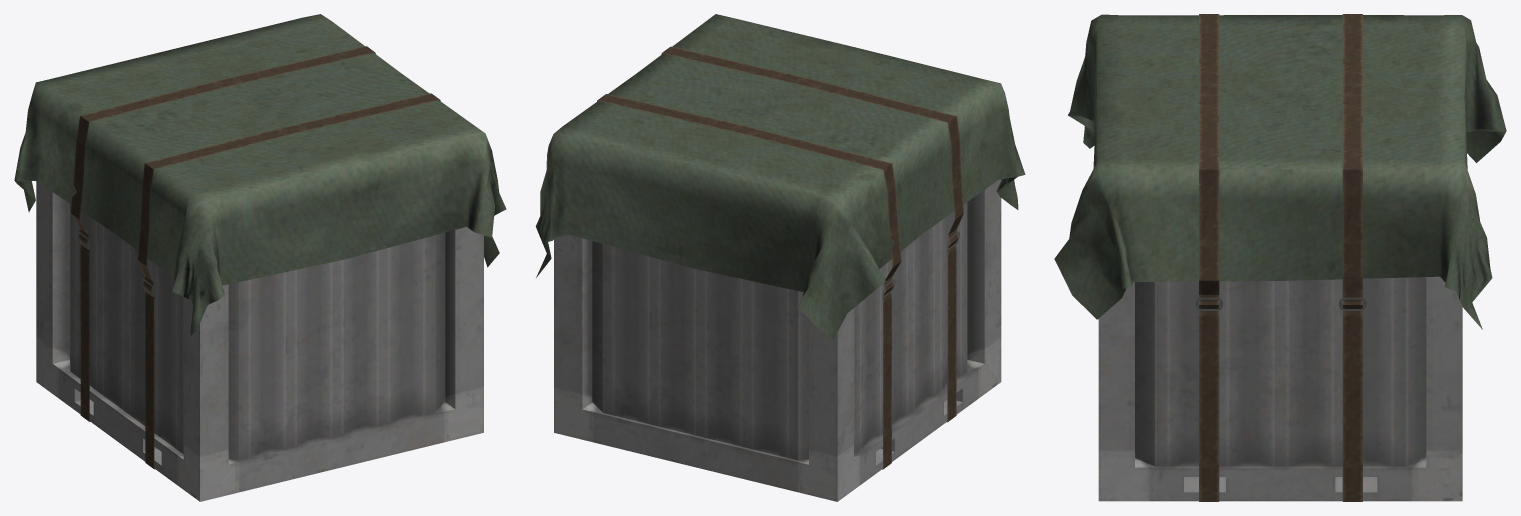
File: Forest_SteelBox01.fbx
The picture shows the model from 3 angles, left to right: view 1: azimuth 30°, elevation 25°; view 2: azimuth 150°, elevation 25°; view 3: azimuth 270°, elevation 25°; orthographic projection. The views are drawn at different scales.
Visible parts, largest first — view 1: ItemBox_SteelBox_02_0_7; view 2: ItemBox_SteelBox_02_0_7; view 3: ItemBox_SteelBox_02_0_7.
Part boxes in pixels (<box>): ItemBox_SteelBox_02_0_7: <box>14,14,506,501</box>; ItemBox_SteelBox_02_0_7: <box>535,14,1025,501</box>; ItemBox_SteelBox_02_0_7: <box>1054,14,1506,501</box>.
Size of the model in its own units: 124 by 102 by 124.
Materials: 1 (1 with a texture image).
